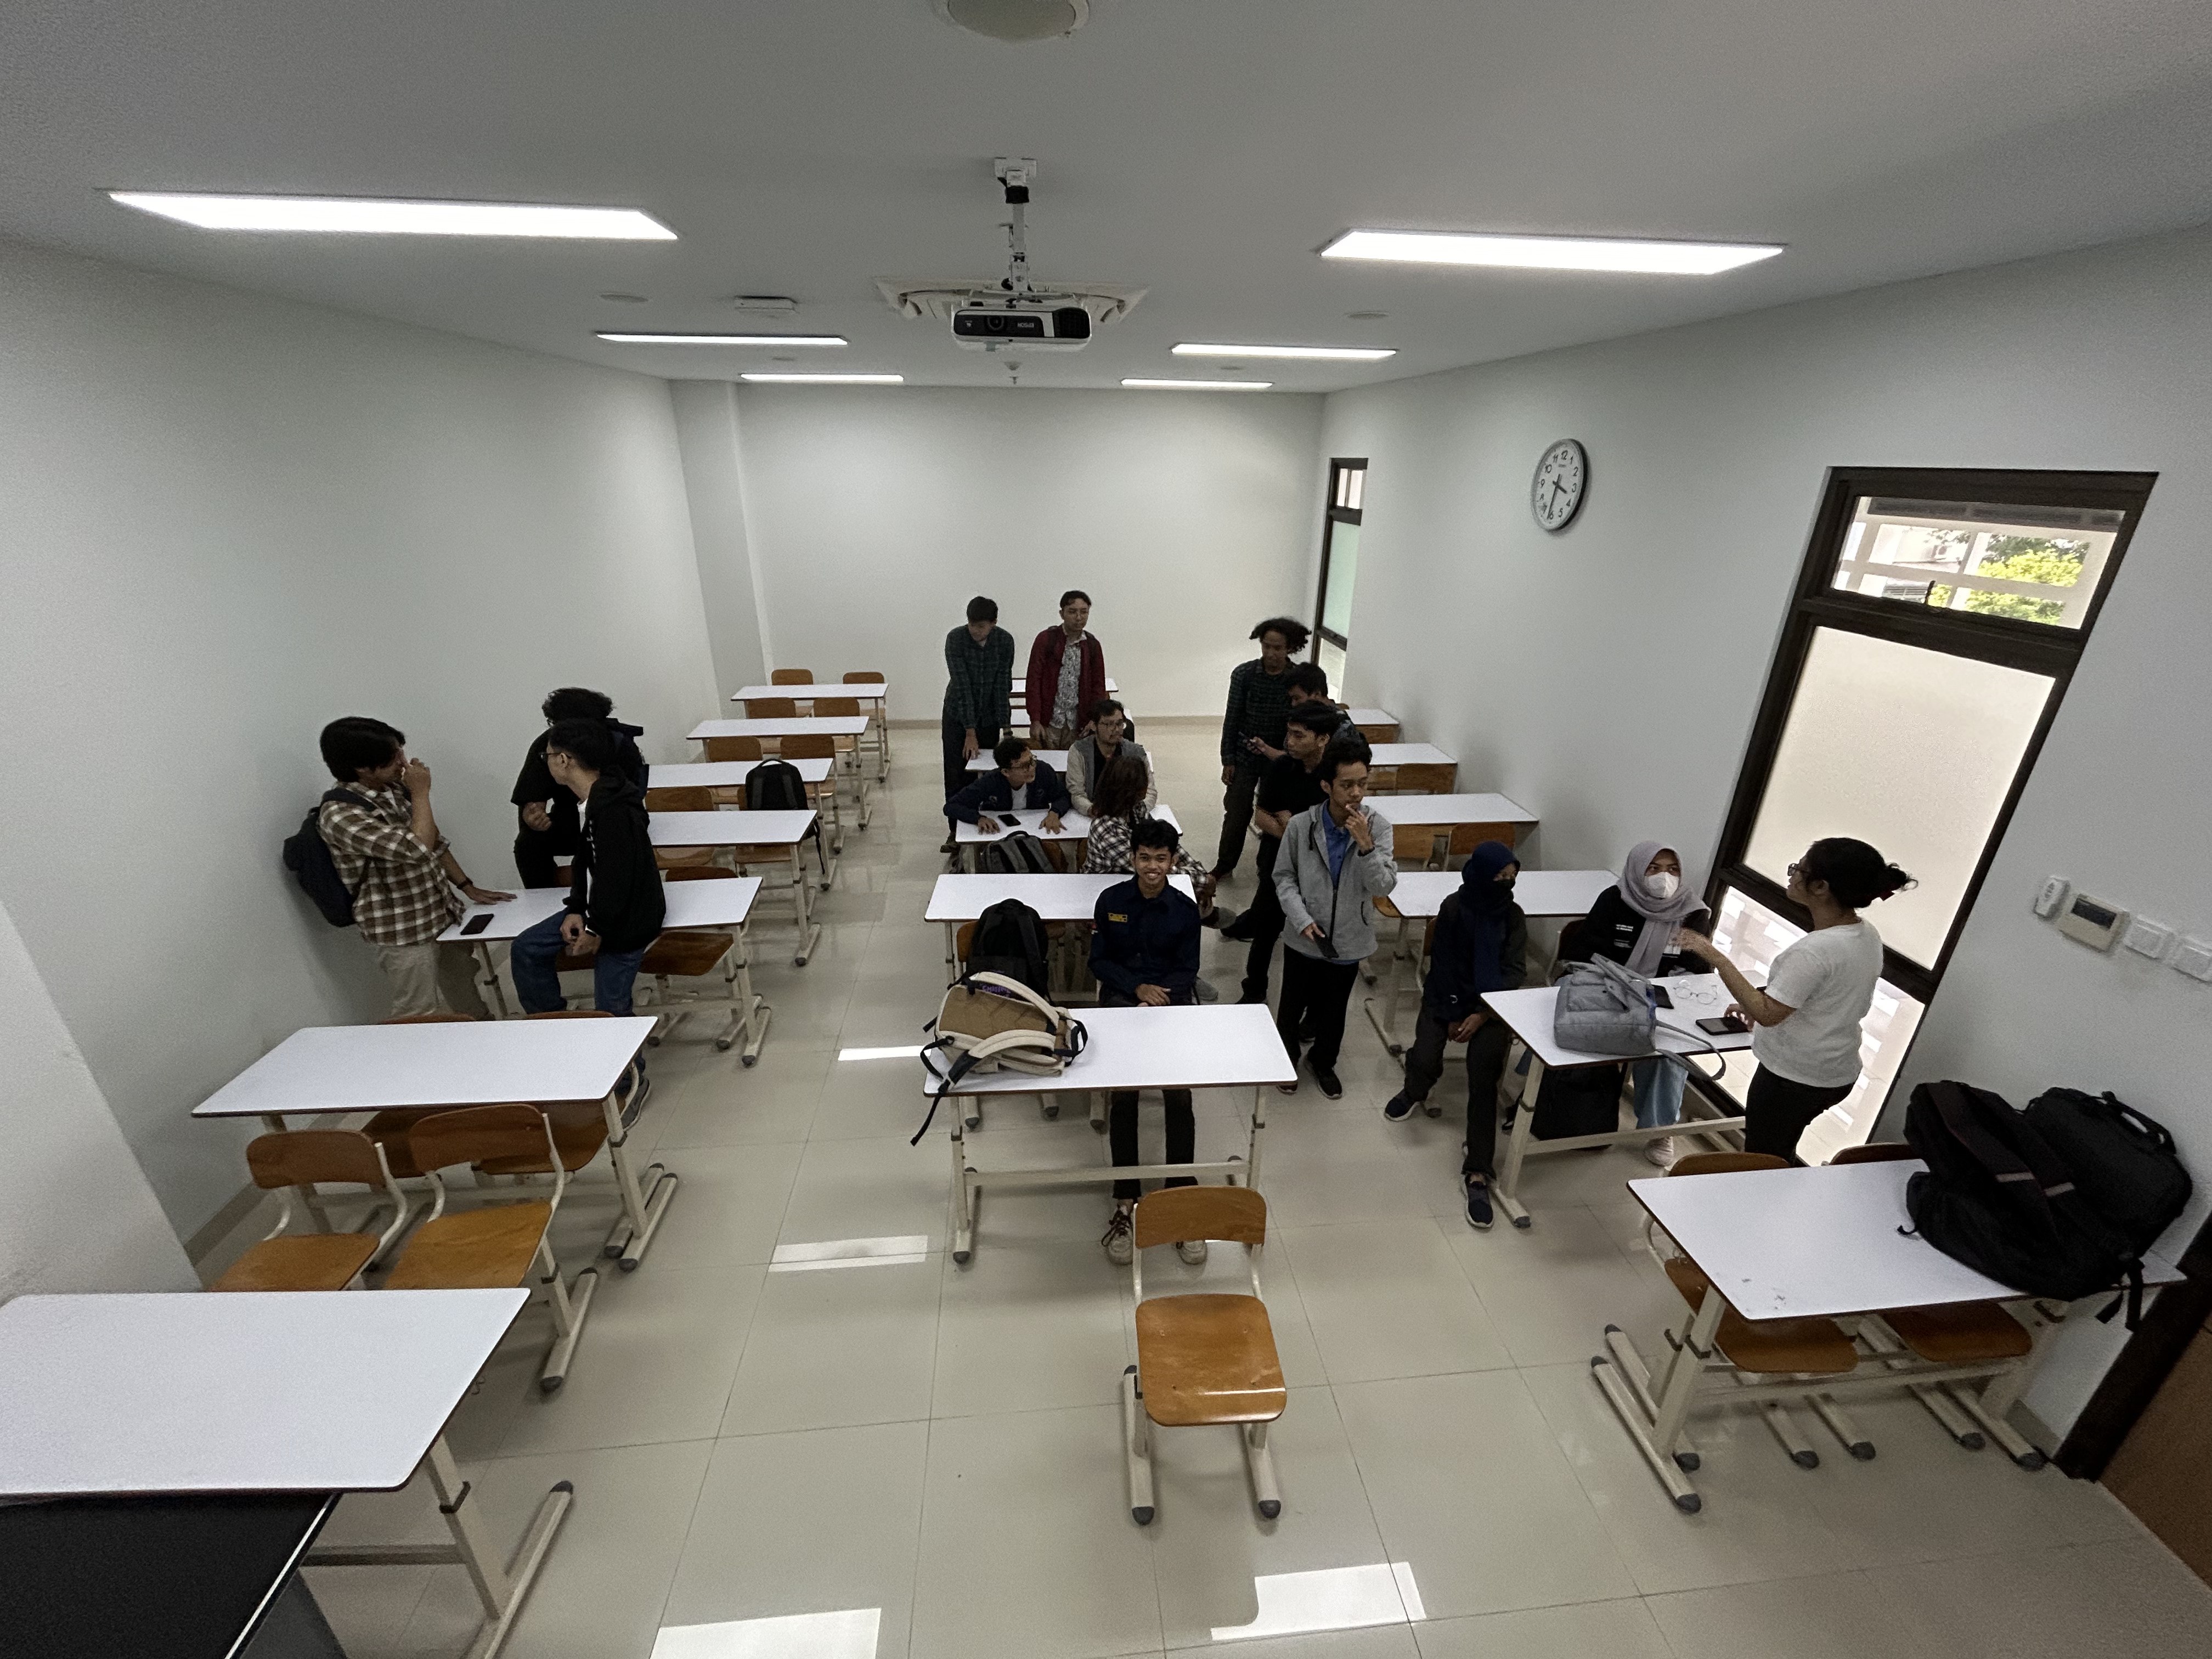person: (296, 700, 480, 1031), (1743, 837, 1917, 1148), (1424, 849, 1558, 1237), (523, 720, 676, 1036), (1269, 748, 1403, 1097), (1087, 822, 1206, 1003), (1586, 831, 1723, 981), (936, 585, 1019, 716), (1032, 589, 1110, 684), (978, 736, 1051, 816), (1267, 705, 1347, 771), (1083, 756, 1160, 815), (1241, 613, 1312, 672), (1071, 696, 1140, 749), (1278, 657, 1336, 709)
